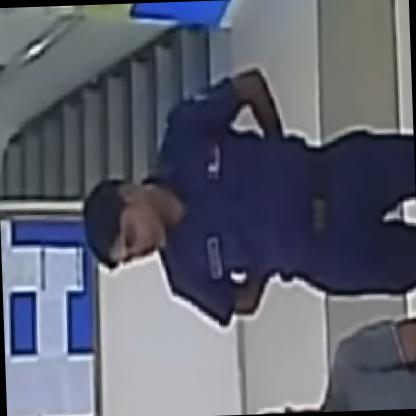Human Body: (70, 48, 415, 335)
